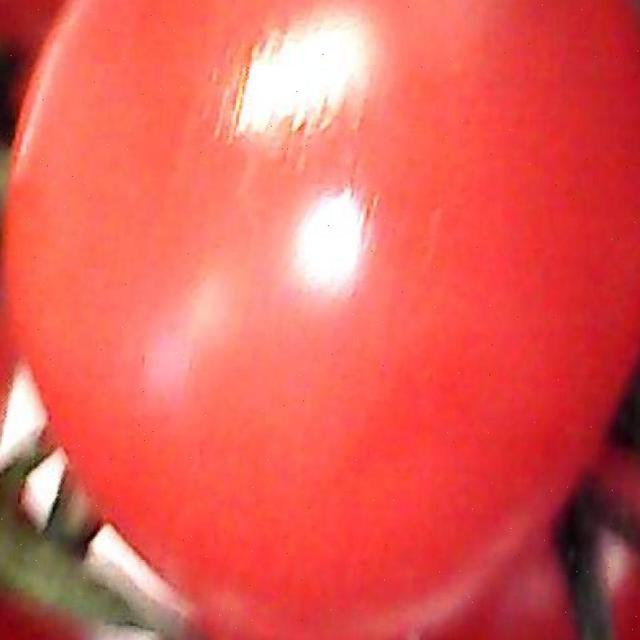Healthy Fruit: (0, 0, 427, 411)
